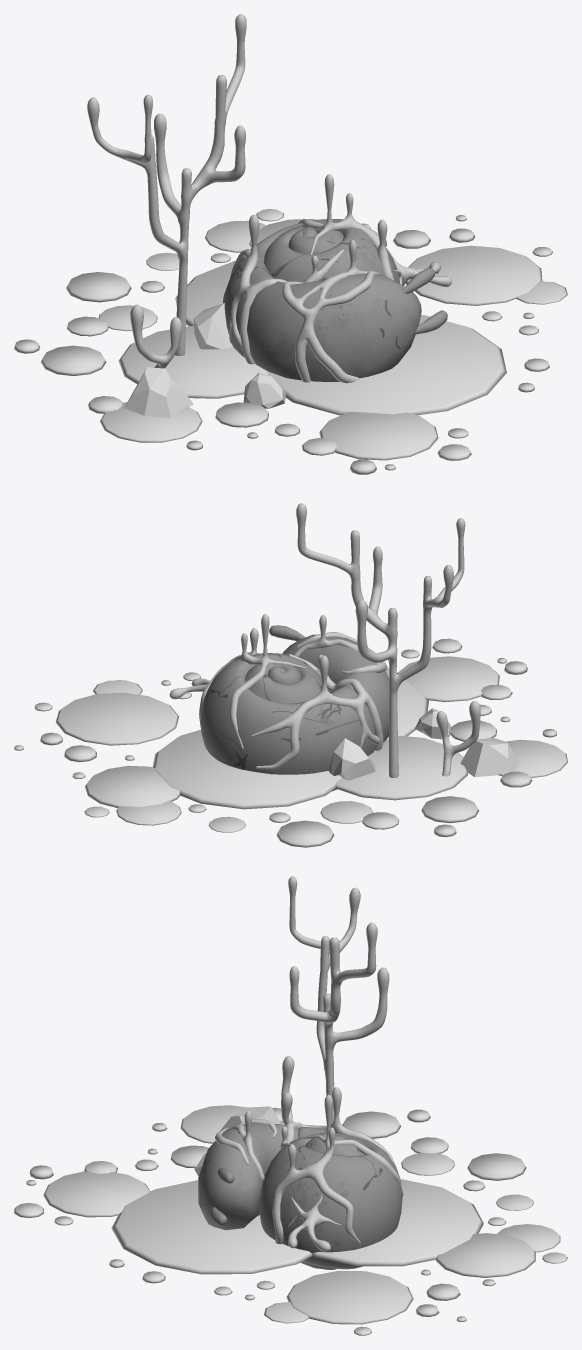
The model's file is CorruptionSet_9.fbx.
The picture shows the model from 3 angles, top to bottom: view 1: azimuth 30°, elevation 25°; view 2: azimuth 150°, elevation 25°; view 3: azimuth 270°, elevation 25°; orthographic projection. The views are drawn at different scales.
Visible parts, largest first — view 1: Circles.008, snail-statue, CorruptedTree2.003, Cube.003, rocks.024, rocks.023, CorruptedTree4.001, rocks.026, Cube.004; view 2: Circles.008, snail-statue, CorruptedTree2.003, Cube.003, rocks.024, rocks.023, CorruptedTree4.001, rocks.026; view 3: Circles.008, snail-statue, CorruptedTree2.003, Cube.003, Cube.004, CorruptedTree4.001, rocks.024.
Part boxes in pixels (box(x1,y1,x2,y2)): Circles.008: box(14, 209, 567, 474); snail-statue: box(223, 219, 447, 381); CorruptedTree2.003: box(87, 14, 246, 355); Cube.003: box(229, 174, 394, 383); rocks.024: box(124, 367, 193, 417); rocks.023: box(193, 303, 232, 349); CorruptedTree4.001: box(130, 304, 181, 368); rocks.026: box(243, 372, 285, 408); Cube.004: box(386, 248, 451, 287); Circles.008: box(14, 638, 567, 847); snail-statue: box(201, 625, 389, 791); CorruptedTree2.003: box(296, 503, 465, 777); Cube.003: box(199, 614, 389, 769); rocks.024: box(460, 738, 519, 777); rocks.023: box(328, 738, 375, 780); CorruptedTree4.001: box(436, 701, 480, 776); rocks.026: box(415, 708, 450, 739); Circles.008: box(14, 1105, 567, 1335); snail-statue: box(198, 1122, 402, 1269); CorruptedTree2.003: box(288, 876, 389, 1124); Cube.003: box(215, 1087, 403, 1244); Cube.004: box(288, 1194, 341, 1252); CorruptedTree4.001: box(281, 1056, 294, 1124); rocks.024: box(220, 1106, 281, 1130).
Bounding box in the file's own units: 622 × 401 × 633.
